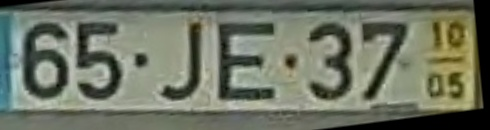3: (304, 17, 356, 105)
5: (74, 19, 123, 103)
6: (18, 19, 72, 104)
7: (357, 19, 411, 106)
E: (214, 19, 279, 103)
J: (154, 19, 206, 105)
